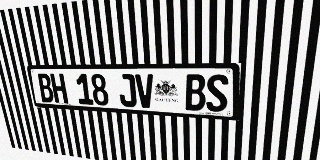1: (75, 74, 94, 105)
8: (90, 74, 109, 106)
B: (185, 74, 206, 111), (36, 74, 55, 103)
H: (50, 74, 68, 103)
J: (117, 74, 137, 107)
S: (206, 74, 228, 112)
V: (135, 74, 155, 108)
